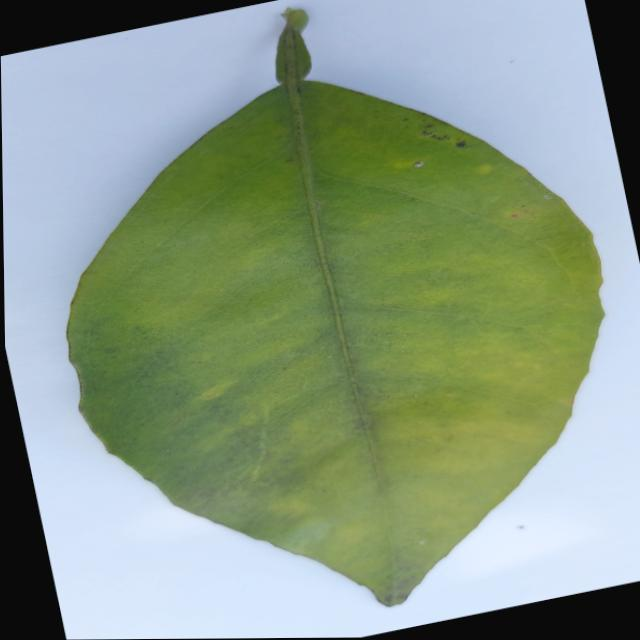greening: (68, 81, 601, 605)
